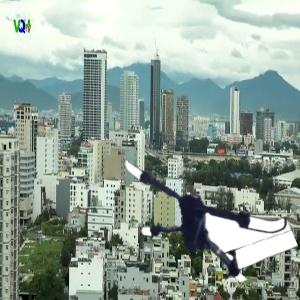drone: (114, 132, 279, 297)
